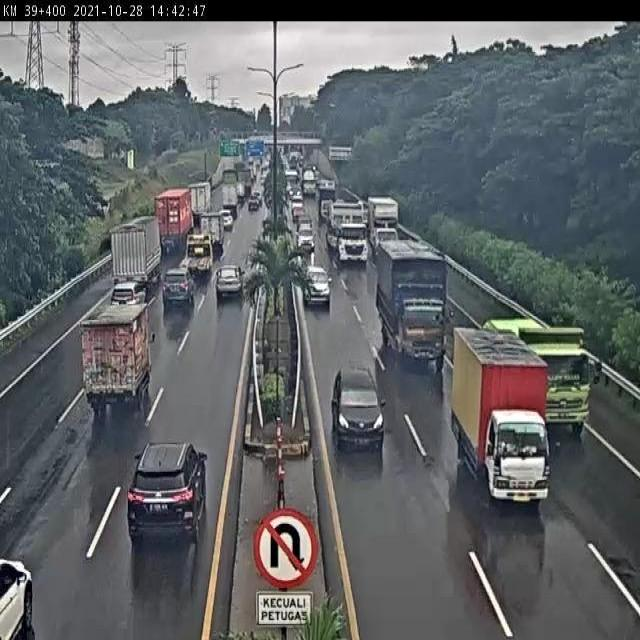car: (126, 440, 207, 540), (330, 365, 386, 456), (303, 264, 334, 311), (162, 266, 195, 306), (109, 274, 144, 306), (216, 263, 242, 297), (296, 224, 316, 252)
mid truck: (184, 231, 217, 269)
truck-l-: (480, 314, 590, 434), (377, 239, 451, 368), (367, 196, 400, 245)
truck-m-: (450, 326, 554, 506), (80, 305, 150, 411), (111, 216, 164, 279)
truck-xl-: (330, 206, 373, 270)
